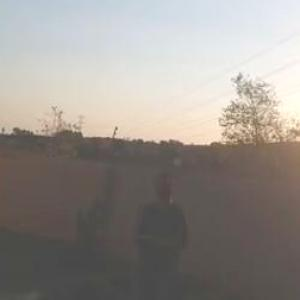follow: (122, 164, 193, 299)
